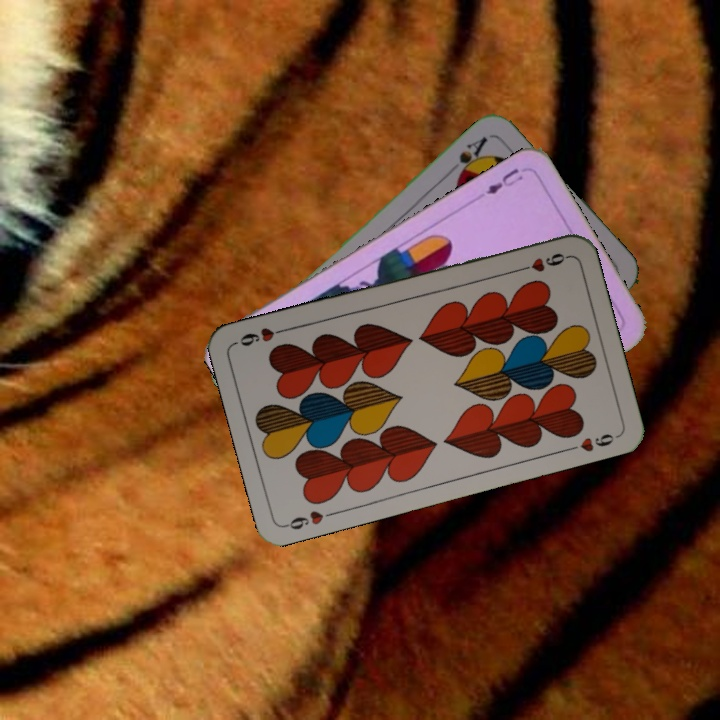EU: (481, 164, 525, 198)
H9: (281, 506, 340, 532), (513, 249, 571, 275)
SA: (453, 131, 491, 181)
